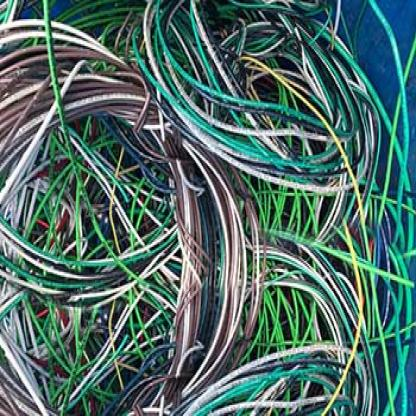wires: (0, 0, 415, 414)
